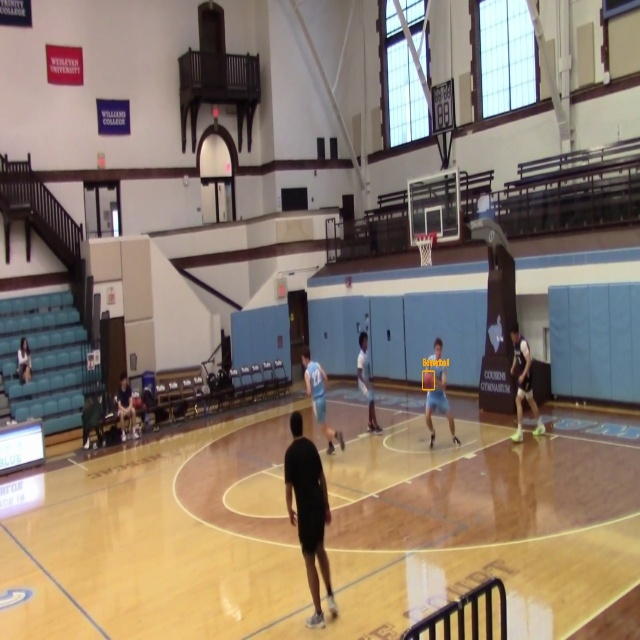Basketball: (423, 371, 434, 390)
